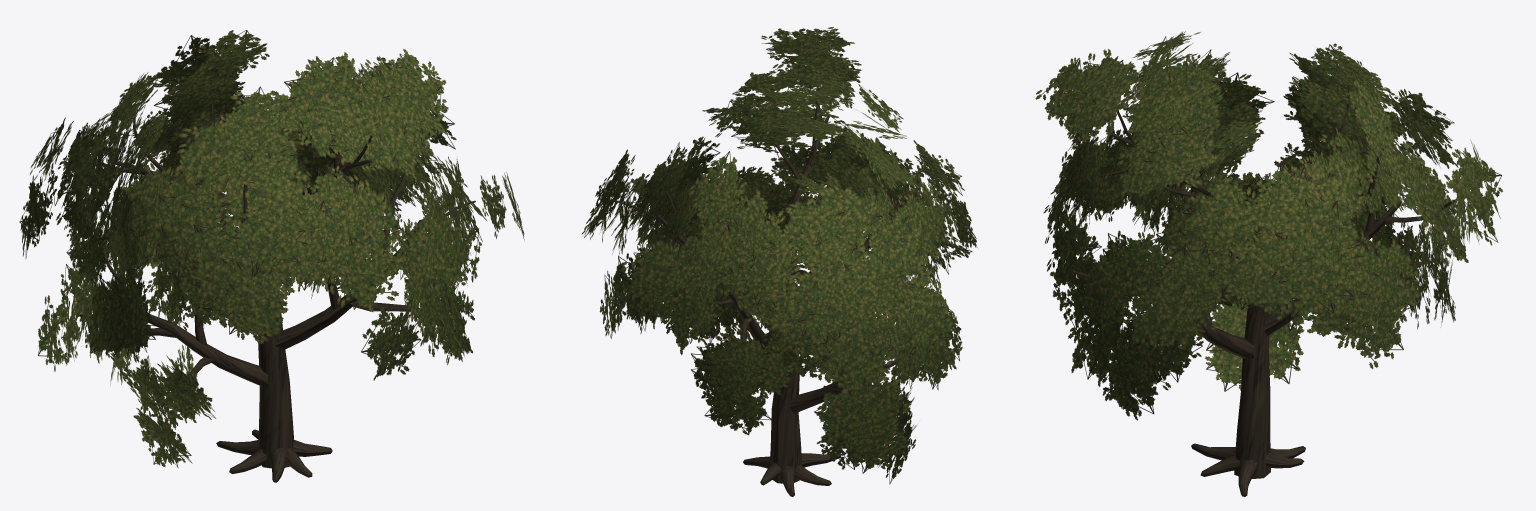
The model's file is DarkOak_1_LOD1.gltf.
3 renders of one model, left to right at view 1: azimuth 30°, elevation 25°; view 2: azimuth 150°, elevation 25°; view 3: azimuth 270°, elevation 25°, orthographic. The views are drawn at different scales.
Visible parts, largest first — view 1: DarkOak_1_LOD1; view 2: DarkOak_1_LOD1; view 3: DarkOak_1_LOD1.
Boxes of the visible parts, bbox=[...] form: DarkOak_1_LOD1: bbox=[19, 30, 524, 482]; DarkOak_1_LOD1: bbox=[581, 27, 977, 496]; DarkOak_1_LOD1: bbox=[1035, 31, 1502, 496].
Size of the model in its own units: 17.85 by 17.51 by 17.31.
2 materials, 2 textured.
